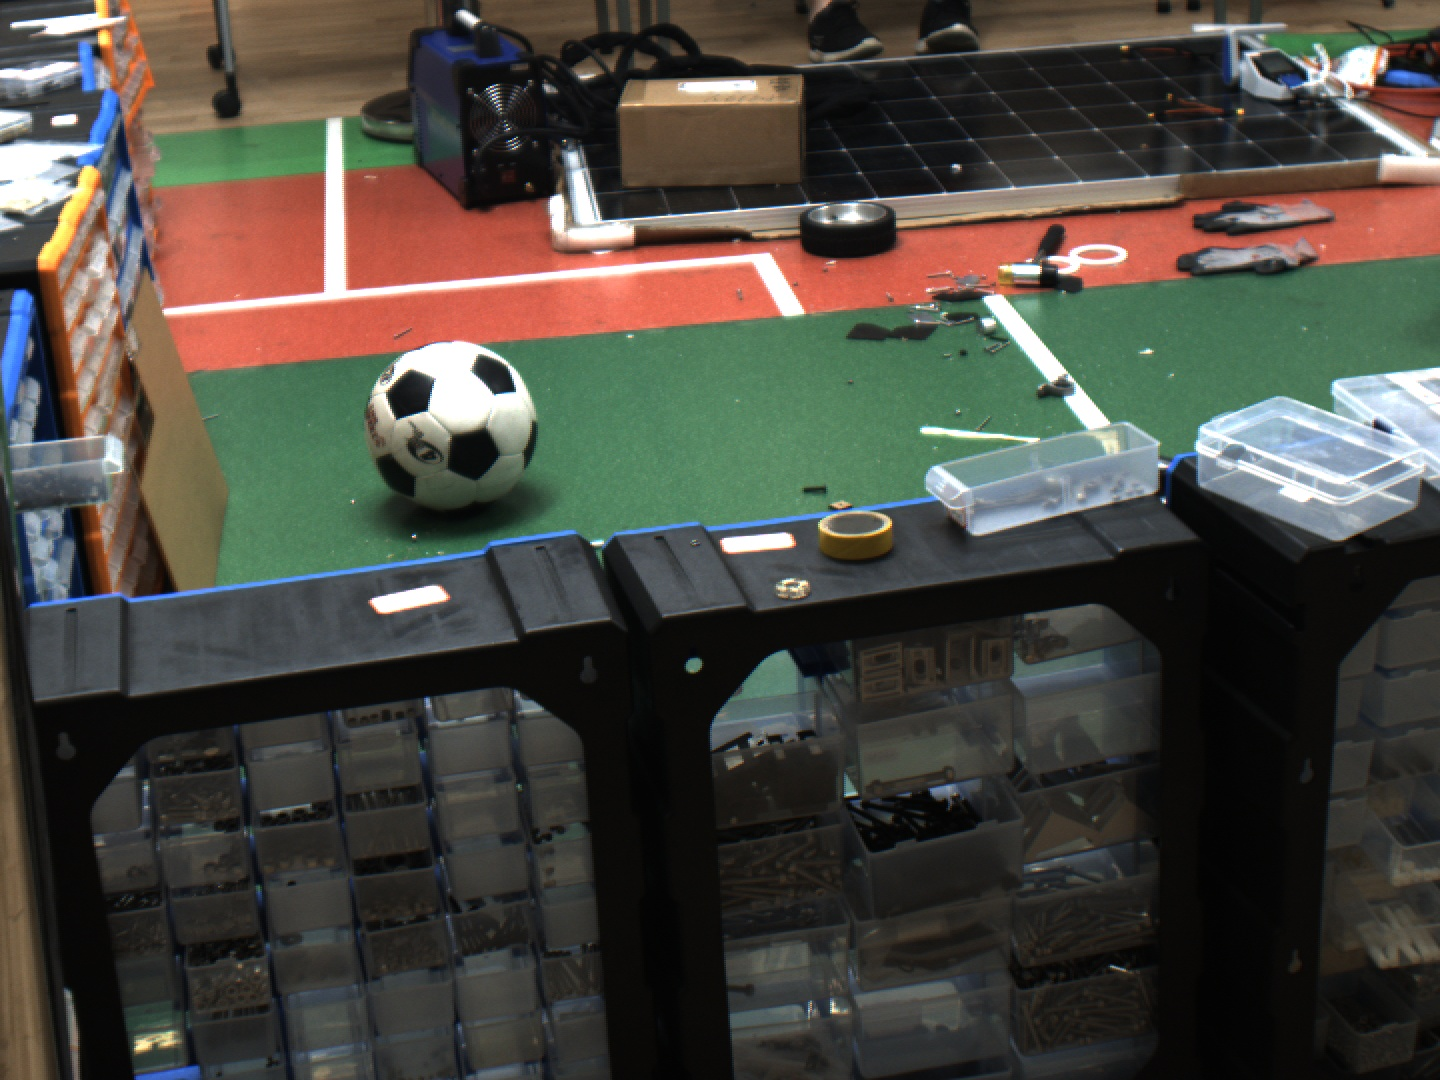ball: (348, 323, 564, 528)
